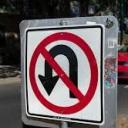NoVirarU: (28, 30, 102, 116)
